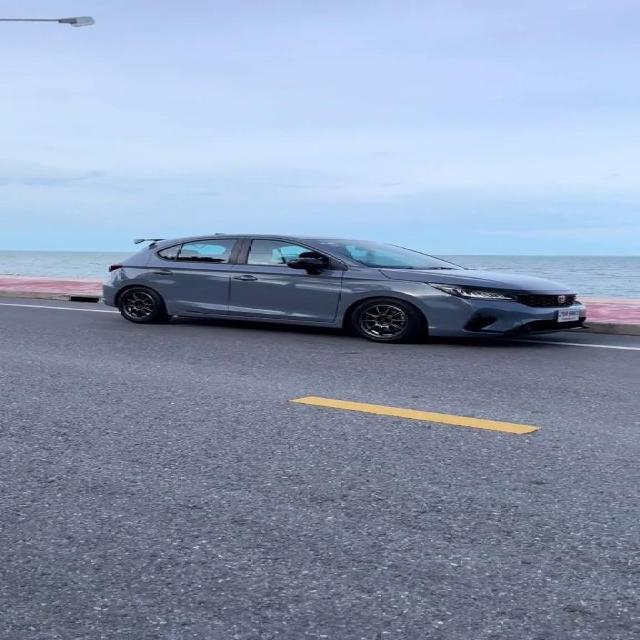Hatchback: (102, 234, 586, 343)
